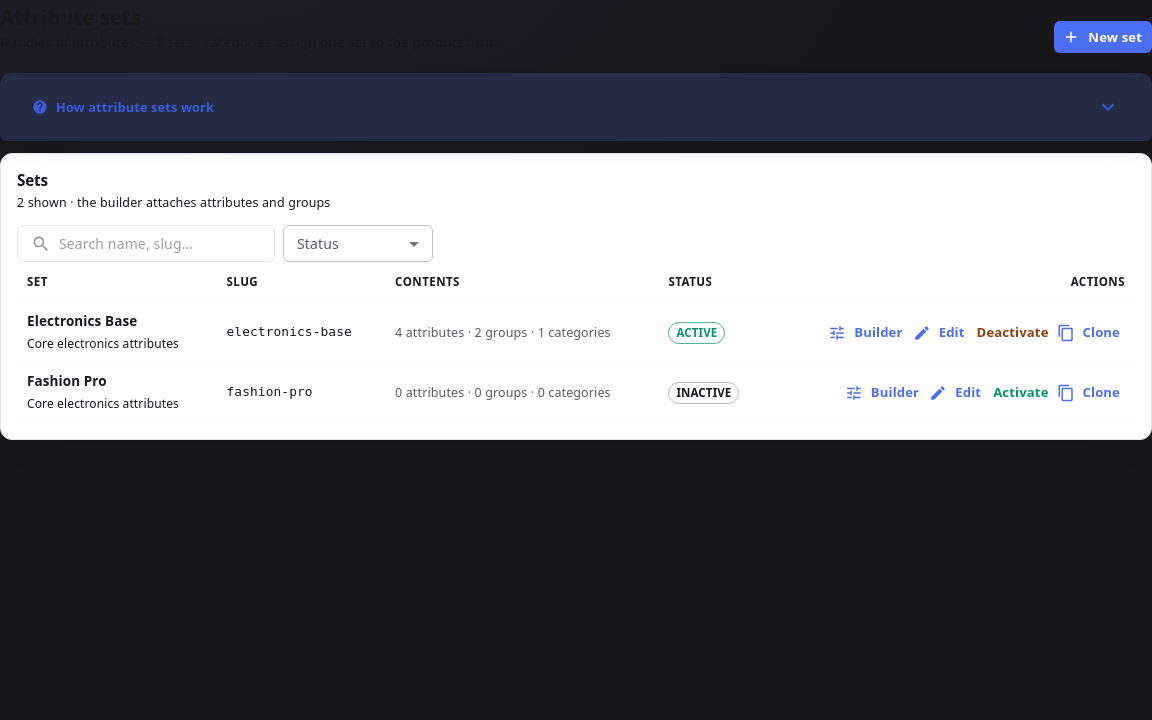
Scenario: AttributeSetsView (admin) › opens the builder for a set
The width and height of the screenshot is (1152, 720).
Click the button "Builder" in the row of "Electronics Base": coordinates (866, 333) x1=825 y1=317 x2=908 y2=349
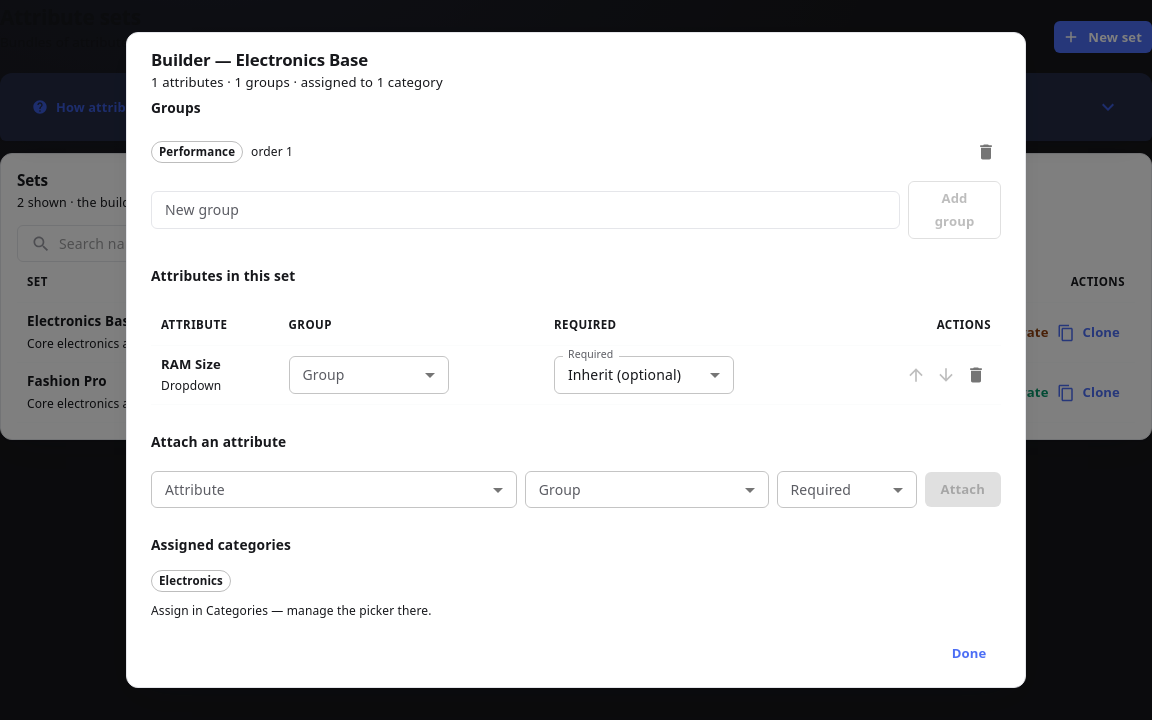
Expected: the heading "Builder — Electronics Base" is shown, x1=151 y1=48 x2=368 y2=71
Expected: the text "Attach an attribute" is shown, x1=151 y1=432 x2=286 y2=451
